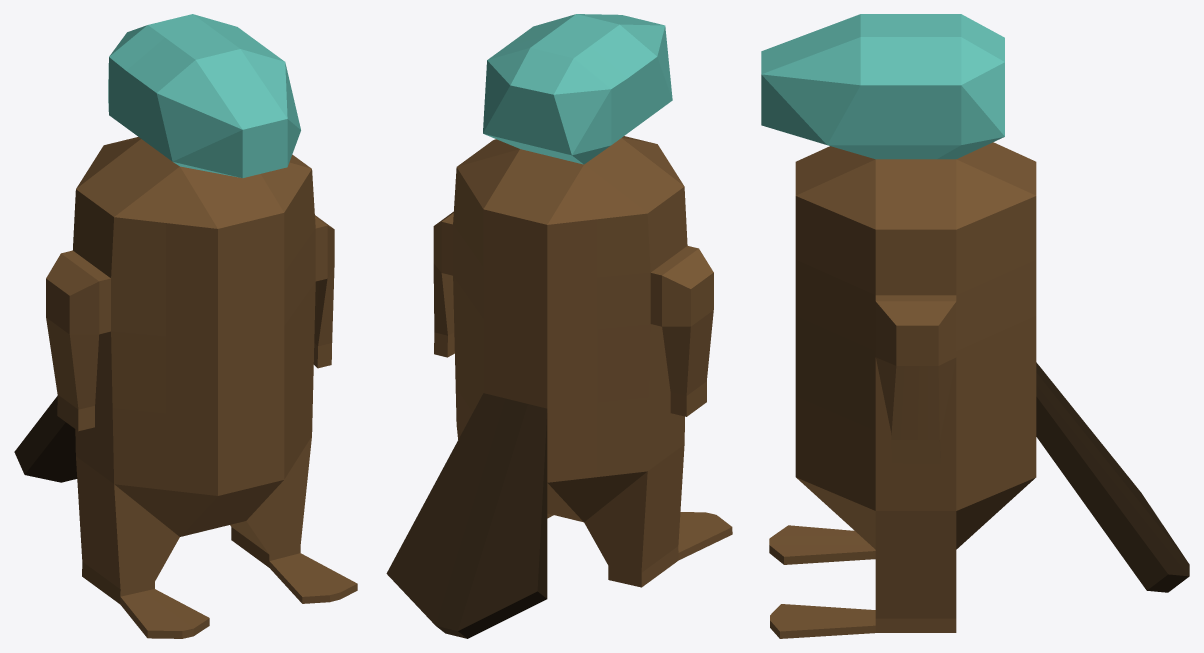
File: wind_beaver_model.fbx
The picture shows the model from 3 angles, left to right: view 1: azimuth 30°, elevation 25°; view 2: azimuth 150°, elevation 25°; view 3: azimuth 270°, elevation 25°; orthographic projection. The views are drawn at different scales.
Visible parts, largest first — view 1: Cube; view 2: Cube; view 3: Cube.
Part boxes in pixels (x1,y1,x2,y2): Cube: (14, 14, 357, 638); Cube: (386, 14, 732, 638); Cube: (761, 14, 1189, 638).
Size of the model in its own units: 89.76 by 171 by 118.
